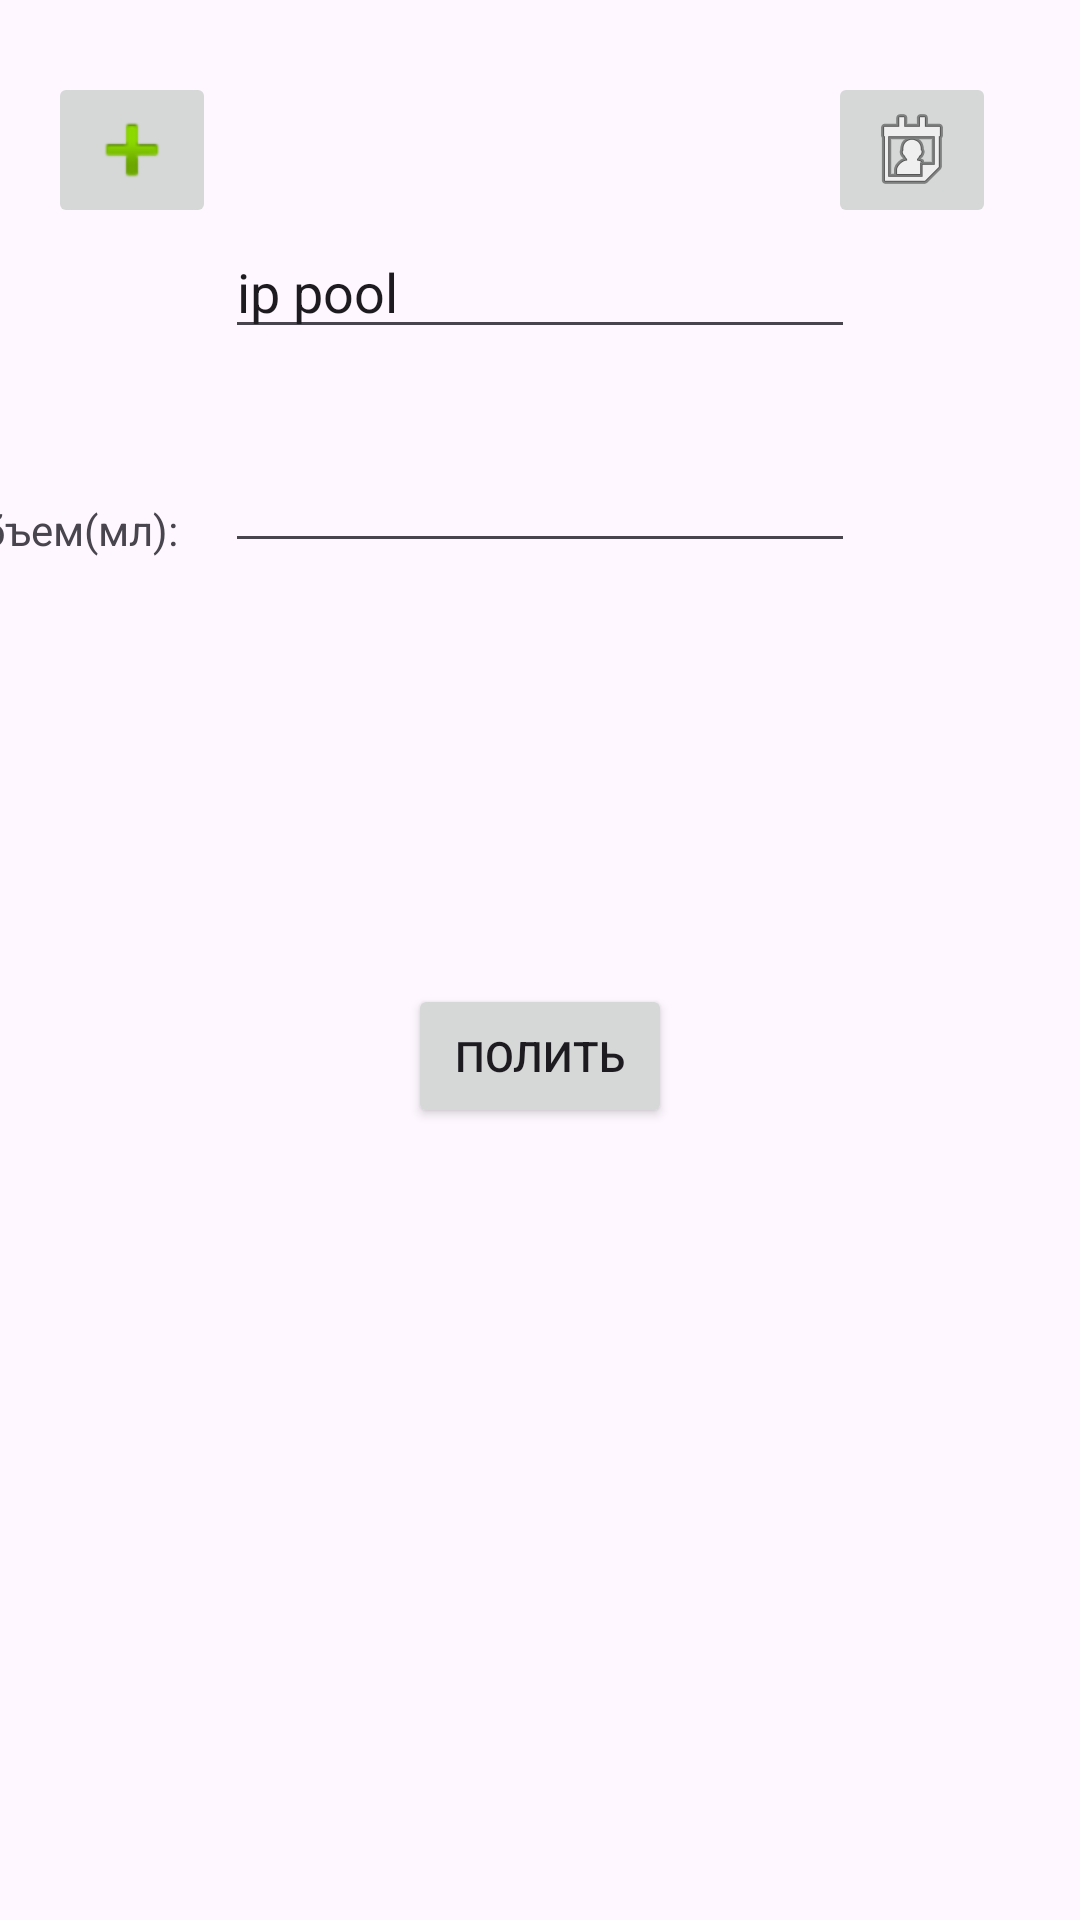

Point at icon controls on the screen. Image size 1080*1920, points as (x,y).
add: (132,150)
calendar: (912,150)
